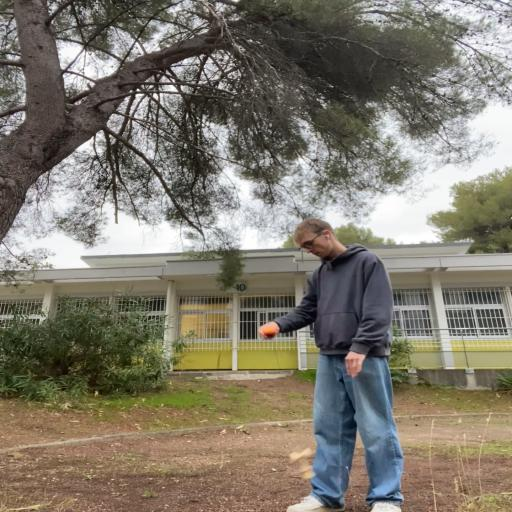kendama_ball: (263, 328, 277, 337)
